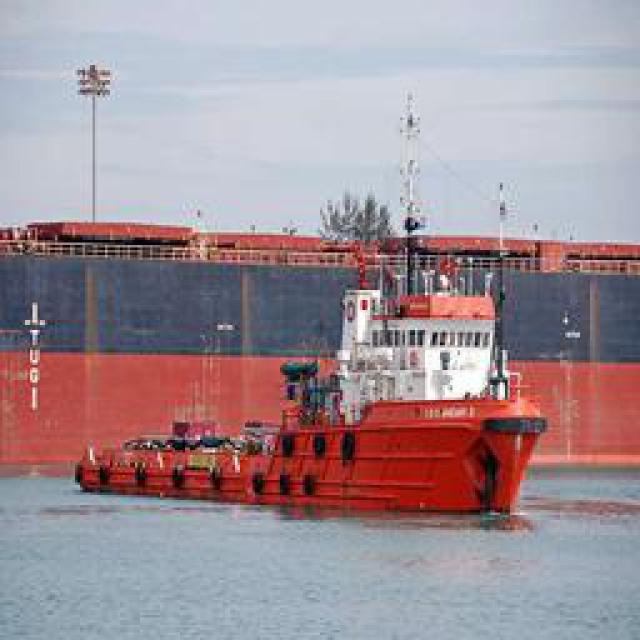Ship: (55, 253, 548, 518)
